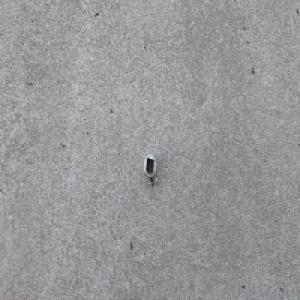MetalPart: (142, 152, 158, 189)
